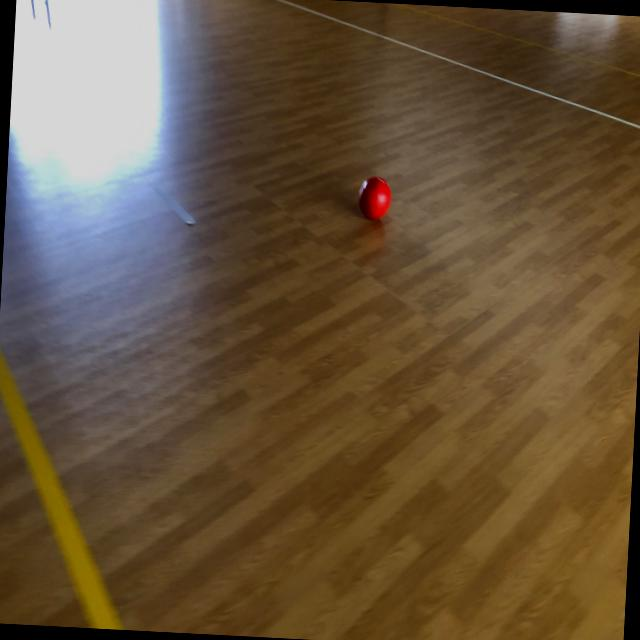red_ball: (358, 174, 392, 218)
